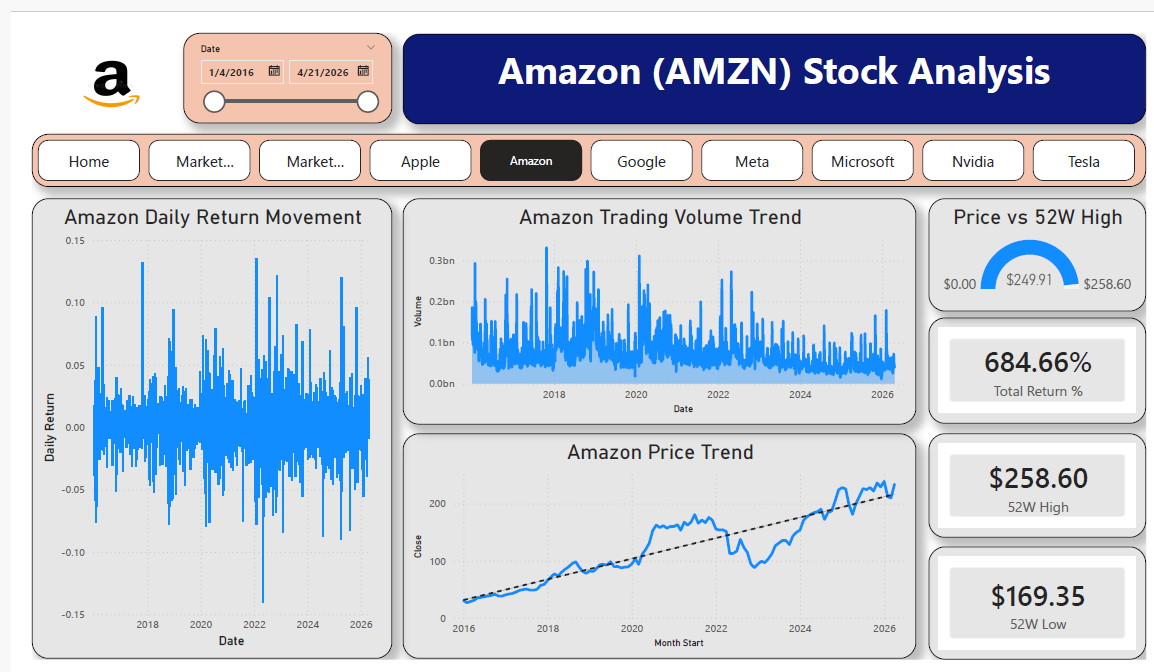

The page's visual inventory and layout, read from the dashboard file:
{"tool":"powerbi","page":{"name":"Amazon","canvas":[1280,720],"ordinal":4},"visuals":[{"type":"image","box":[18.8,1.2,143.8,115],"z":0},{"type":"textbox","box":[426.2,1.2,853.8,103.8],"z":1000},{"type":"slicer","fields":{"Values":["DateTable.Date"]},"box":[173.8,0,240,103.8],"z":2000},{"type":"pageNavigator","box":[0,115.7,1280,61.4],"z":3000},{"type":"cardVisual","fields":{"Data":["mag7_powerbi_ready.Total Return %"]},"box":[1030,327.1,250,121.4],"z":5000},{"type":"cardVisual","fields":{"Data":["mag7_powerbi_ready.52W High"]},"box":[1030,460,250,120],"z":6000},{"type":"cardVisual","fields":{"Data":["mag7_powerbi_ready.52W Low"]},"box":[1030,590,250,130],"z":7000},{"type":"lineChart","title":"Amazon Price Trend  ","fields":{"Y":["Avg(mag7_powerbi_ready.Close)"],"Category":["mag7_powerbi_ready.Month Start"]},"box":[426.2,460,590,258.8],"z":8000},{"type":"areaChart","title":"Amazon Trading Volume Trend","fields":{"Y":["Avg(mag7_powerbi_ready.Volume)"],"Category":["DateTable.Date"]},"box":[425.7,190,590,260],"z":9000},{"type":"clusteredColumnChart","title":"Amazon Daily Return Movement","fields":{"Y":["Avg(mag7_powerbi_ready.Daily_Return)"],"Category":["DateTable.Date"]},"box":[0,190,413.8,528.8],"z":10000},{"type":"gauge","title":"Price vs 52W High","fields":{"MaxValue":["mag7_powerbi_ready.52W High"],"Y":["mag7_powerbi_ready.Latest Close"]},"box":[1029.9,189.6,250.3,130.1],"z":10001}]}

Visuals, with their boxes on the page's 1280x720 design canvas (x1, y1, x2, y2). These are canvas units, not pixel positions in the 1154x672 screenshot, which may show the page scaled, cropped or inside an application window:
image: [19, 1, 163, 116]
textbox: [426, 1, 1280, 105]
slicer - DateTable.Date: [174, 0, 414, 104]
pageNavigator: [0, 116, 1280, 177]
cardVisual - mag7_powerbi_ready.Total Return %: [1030, 327, 1280, 448]
cardVisual - mag7_powerbi_ready.52W High: [1030, 460, 1280, 580]
cardVisual - mag7_powerbi_ready.52W Low: [1030, 590, 1280, 720]
"Amazon Price Trend  " lineChart: [426, 460, 1016, 719]
"Amazon Trading Volume Trend" areaChart: [426, 190, 1016, 450]
"Amazon Daily Return Movement" clusteredColumnChart: [0, 190, 414, 719]
"Price vs 52W High" gauge: [1030, 190, 1280, 320]
